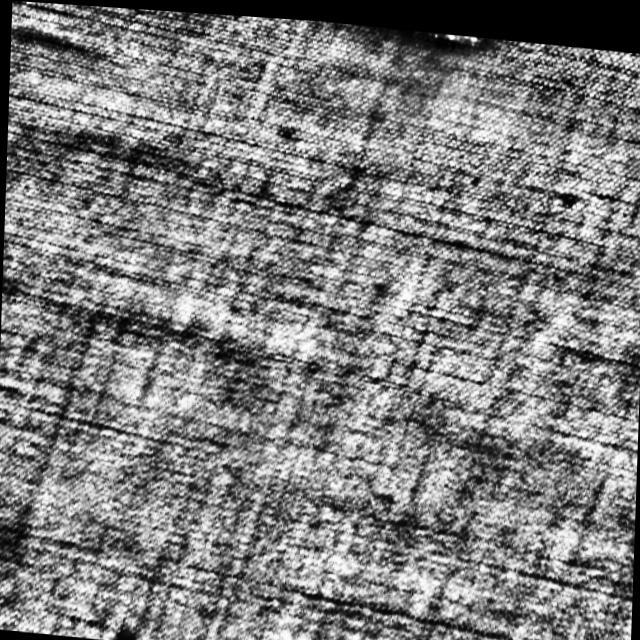Hole: (396, 23, 492, 48)
